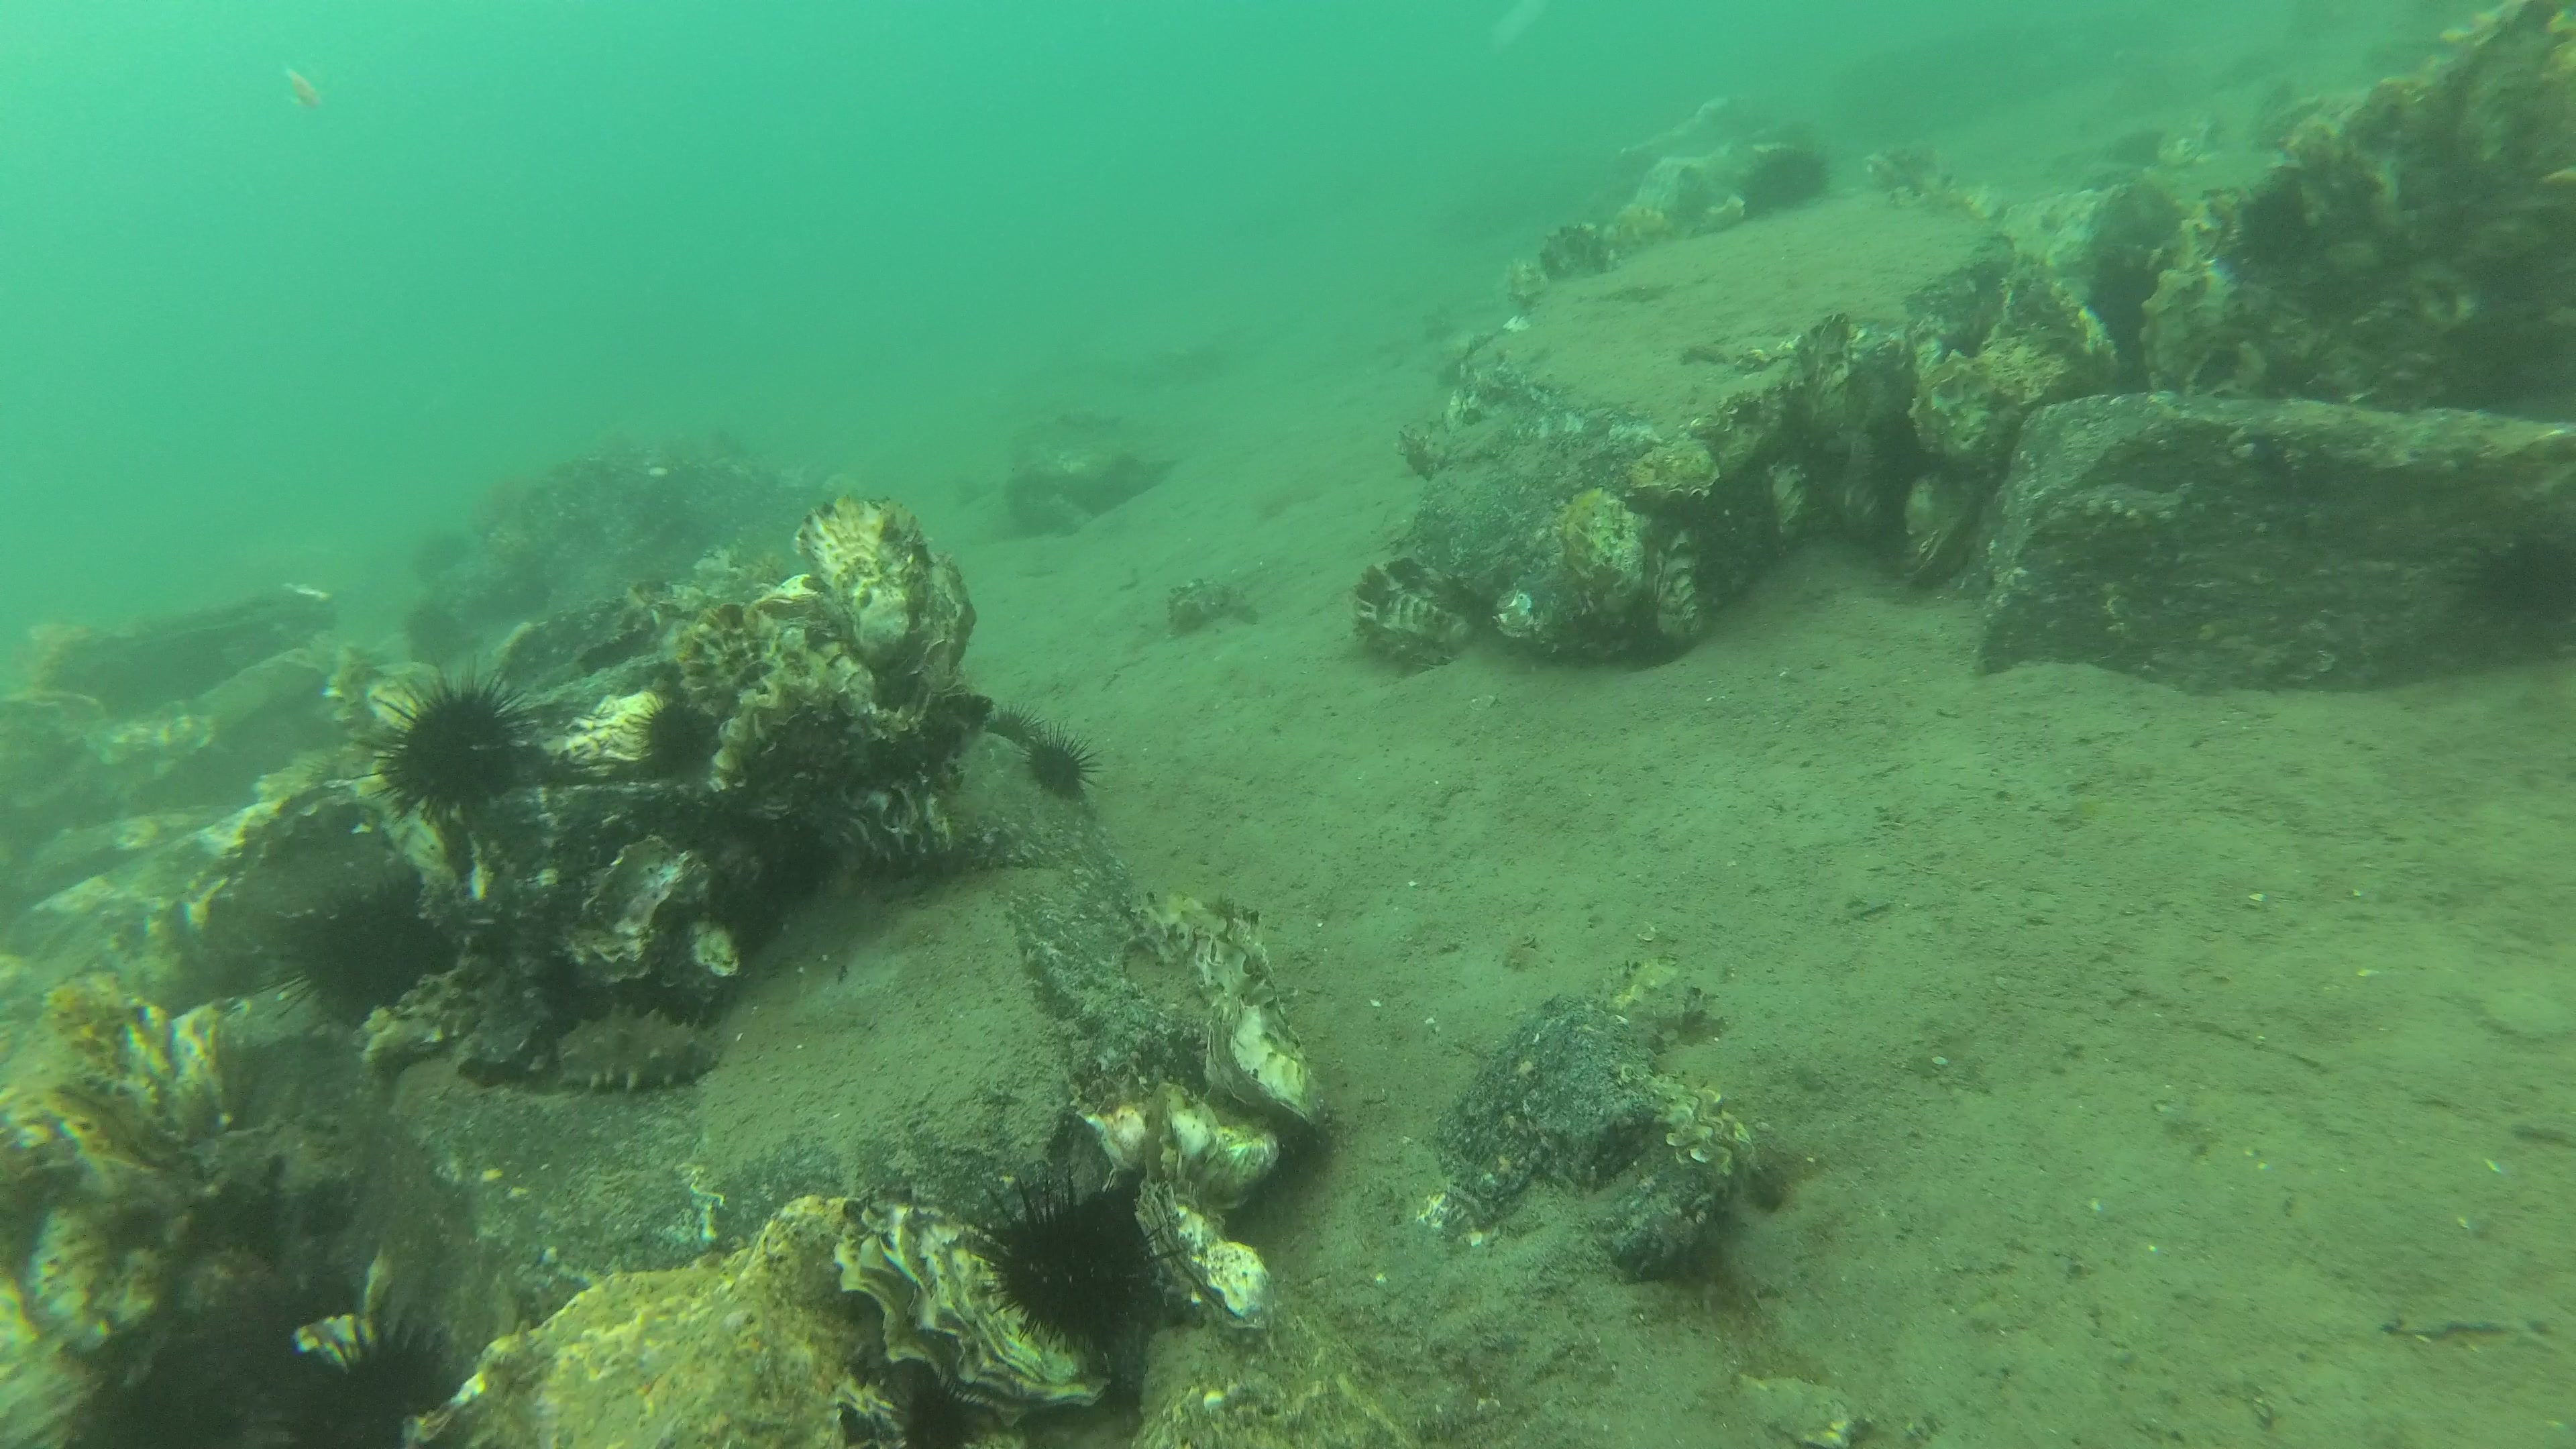echinus: (962, 1161, 1194, 1352), (246, 867, 472, 1033), (343, 667, 541, 832), (271, 1306, 465, 1449), (2434, 531, 2576, 630), (2215, 173, 2311, 292), (2082, 246, 2171, 373), (1856, 410, 1936, 518), (1023, 717, 1111, 801), (625, 690, 711, 775), (1732, 142, 1831, 214), (396, 600, 467, 658), (982, 699, 1051, 750), (409, 531, 472, 586), (1937, 322, 1989, 364), (2120, 131, 2166, 165)
holothurian: (550, 1008, 731, 1099)
